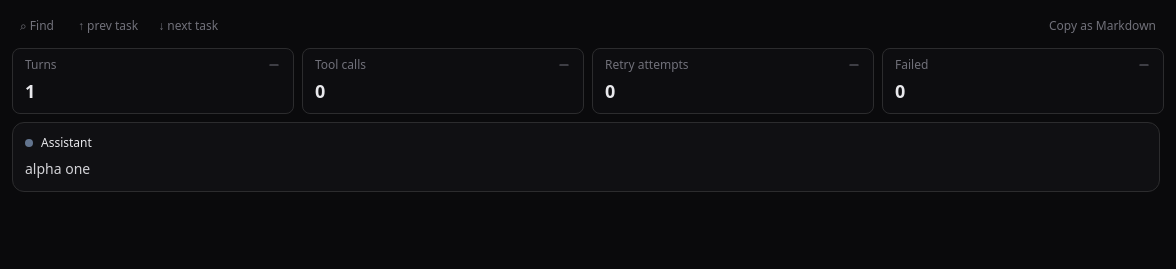
Scenario: ConversationTimeline find tiers and hotkeys › Cmd/Ctrl+F on a toolbar control opens find and Esc leaves find mode entirely
The width and height of the screenshot is (1176, 269).
Press f in the button "⌕ Find", box [12,12,62,40]
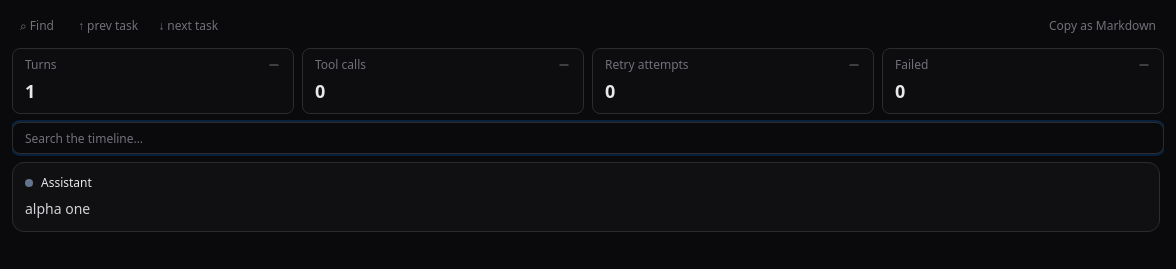
Expected: the field with test id "timeline-find" is shown
Type "alpha" into the field with test id "timeline-find" at (588, 138), box [12,122,1164,154]
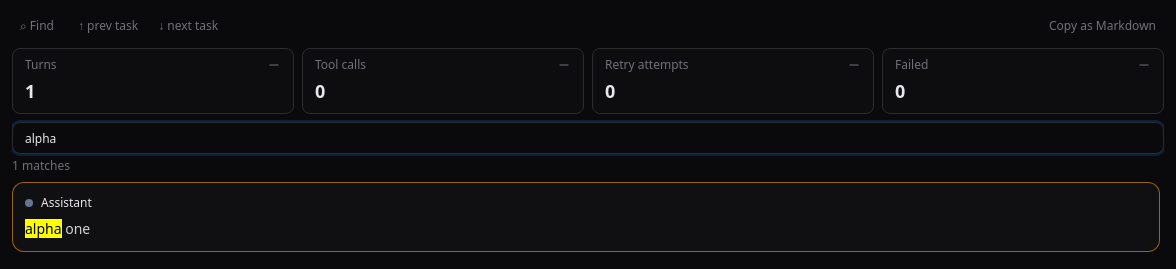
Press Escape in the field with test id "timeline-find", box [12,122,1164,154]
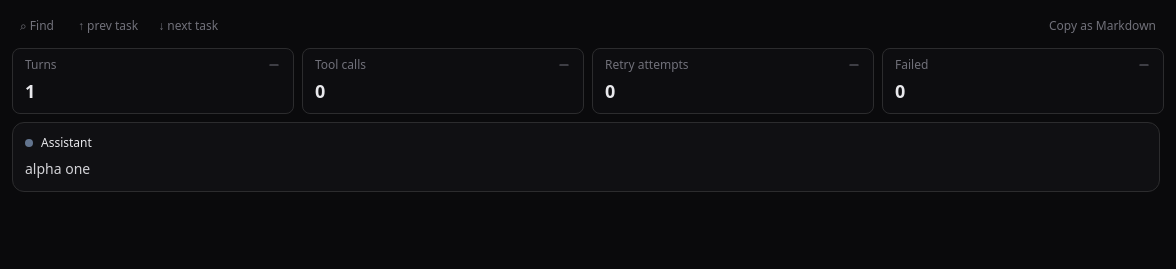
Expected: the field with test id "timeline-find" is gone
Expected: the text "matches" is gone
